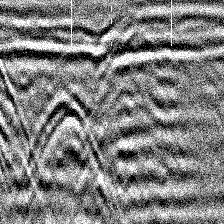Utility: (28, 89, 108, 189)
